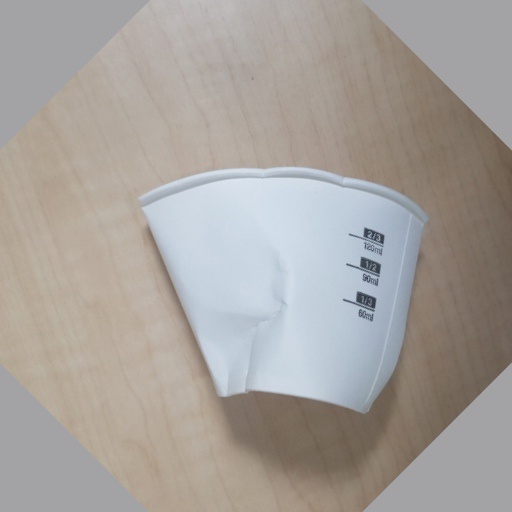Paper_1: (142, 172, 431, 404)
